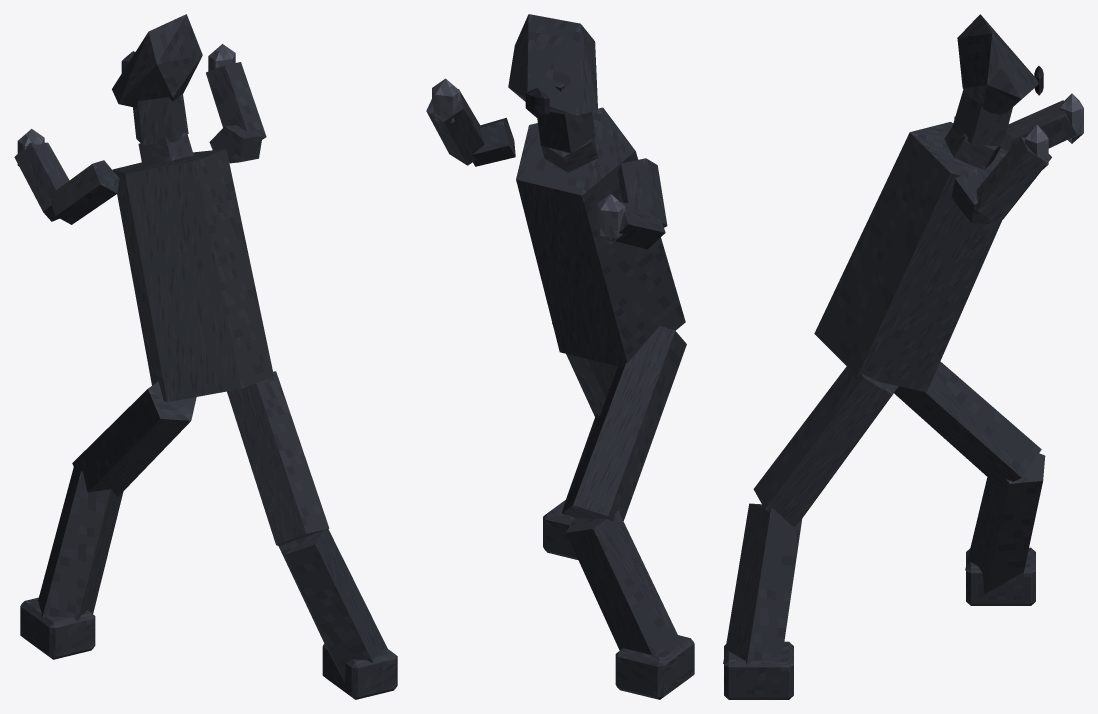
The model's file is f_glassedbody_11.glb.
3 renders of one model, left to right at view 1: azimuth 30°, elevation 25°; view 2: azimuth 150°, elevation 25°; view 3: azimuth 270°, elevation 25°, orthographic. The views are drawn at different scales.
Visible parts, largest first — view 1: block_angular-torso-1, block_faceted-glass-leg-2 (×2), block_faceted-glass-leg-1 (×2), block_solid-glass-foot (×2), block_angular-black-glass-head, block_angular-glass-arm-2 (×2), block_angular-glass-arm-1 (×2), block_vitrified-neck-2, block_vitrified-neck-1; view 2: block_angular-torso-1, block_faceted-glass-leg-2 (×2), block_faceted-glass-leg-1, block_angular-black-glass-head, block_solid-glass-foot (×2), block_angular-glass-arm-2 (×2), block_angular-glass-arm-1 (×2), block_vitrified-neck-2, block_glass-hand (×2), block_vitrified-neck-1, block_dark-frozen-scream-recess; view 3: block_angular-torso-1, block_faceted-glass-leg-2 (×2), block_faceted-glass-leg-1 (×2), block_solid-glass-foot (×2), block_angular-black-glass-head, block_angular-glass-arm-2 (×2), block_vitrified-neck-2, block_glass-hand (×2), block_angular-glass-arm-1, block_vitrified-neck-1.
Boxes of the visible parts, x1,y1,x2,y2 form: block_angular-torso-1: [112, 149, 273, 402]; block_faceted-glass-leg-2 (×2): [72, 371, 329, 545]; block_faceted-glass-leg-1 (×2): [38, 467, 387, 682]; block_solid-glass-foot (×2): [20, 597, 397, 699]; block_angular-black-glass-head: [112, 14, 202, 107]; block_angular-glass-arm-2 (×2): [14, 62, 266, 221]; block_angular-glass-arm-1 (×2): [48, 125, 262, 224]; block_vitrified-neck-2: [133, 94, 188, 144]; block_vitrified-neck-1: [138, 132, 193, 167]; block_angular-torso-1: [516, 107, 685, 367]; block_faceted-glass-leg-2 (×2): [552, 323, 686, 521]; block_faceted-glass-leg-1: [566, 510, 683, 655]; block_angular-black-glass-head: [508, 14, 597, 115]; block_solid-glass-foot (×2): [543, 500, 694, 699]; block_angular-glass-arm-2 (×2): [426, 89, 665, 249]; block_angular-glass-arm-1 (×2): [472, 117, 667, 227]; block_vitrified-neck-2: [537, 84, 595, 152]; block_glass-hand (×2): [432, 78, 625, 245]; block_vitrified-neck-1: [541, 138, 598, 172]; block_dark-frozen-scream-recess: [525, 88, 549, 118]; block_angular-torso-1: [814, 122, 1007, 392]; block_faceted-glass-leg-2 (×2): [753, 361, 1041, 527]; block_faceted-glass-leg-1 (×2): [723, 453, 1045, 664]; block_solid-glass-foot (×2): [724, 547, 1035, 699]; block_angular-black-glass-head: [957, 14, 1038, 114]; block_angular-glass-arm-2 (×2): [975, 100, 1077, 224]; block_vitrified-neck-2: [952, 90, 1012, 146]; block_glass-hand (×2): [1025, 93, 1083, 170]; block_angular-glass-arm-1: [951, 168, 992, 223]; block_vitrified-neck-1: [944, 128, 1000, 169].
Size of the model in its own units: 0.632 by 1.57 by 0.8212.
1 material, 1 textured.
